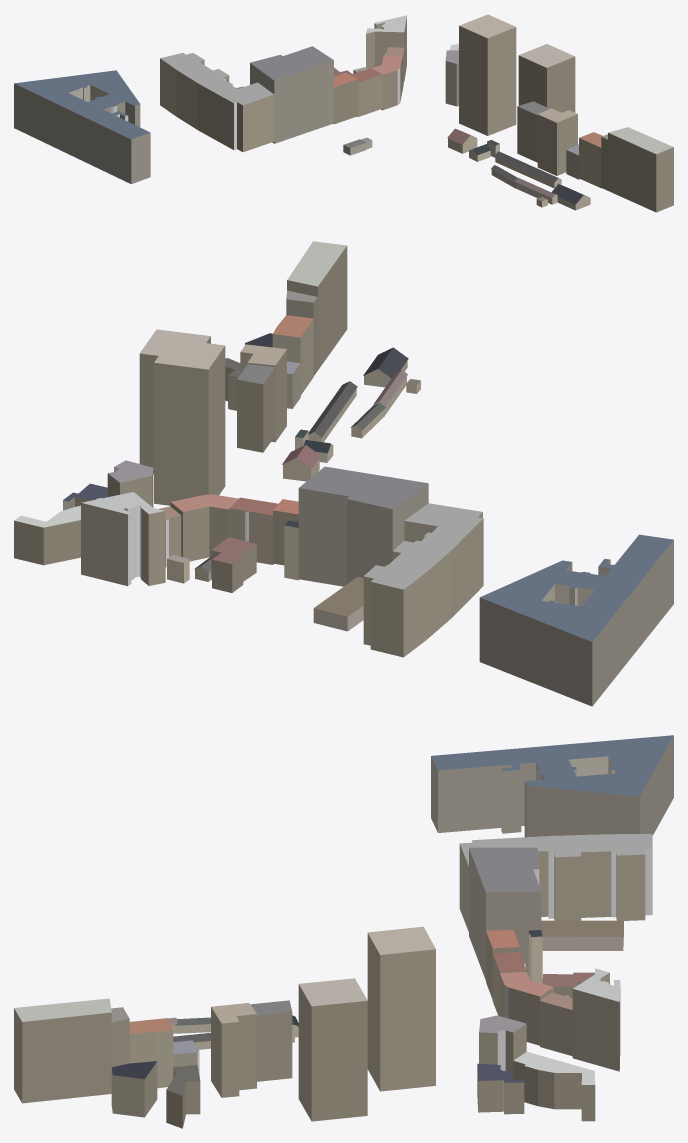
The picture shows the model from 3 angles, top to bottom: view 1: azimuth 30°, elevation 25°; view 2: azimuth 150°, elevation 25°; view 3: azimuth 270°, elevation 25°; orthographic projection. The views are drawn at different scales.
Visible parts, largest first — view 1: tuile; view 2: tuile; view 3: tuile.
Boxes of the visible parts, x1,y1,x2,y2 form: tuile: (14,14,673,212); tuile: (14,241,673,706); tuile: (14,735,673,1128).
Size of the model in its own units: 260 by 57.99 by 240.
